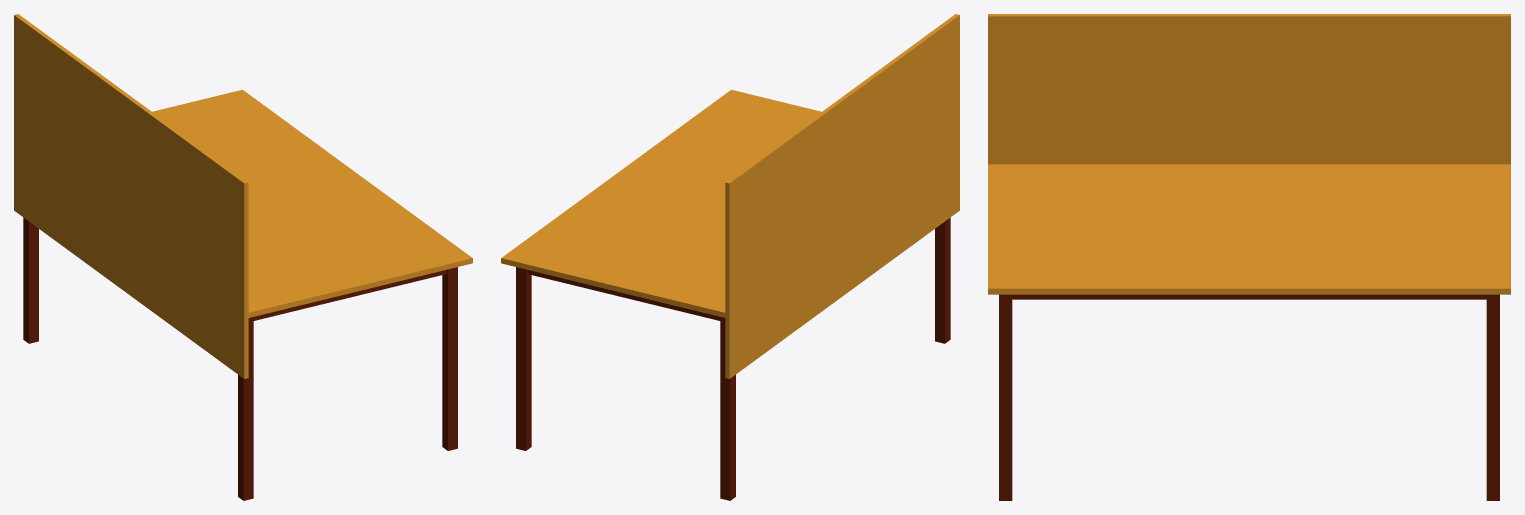
Rendered from table_2.dae.
3 views of the same model, side by side, from view 1: azimuth 30°, elevation 25°; view 2: azimuth 150°, elevation 25°; view 3: azimuth 270°, elevation 25° (orthographic). The views are drawn at different scales.
Visible parts, largest first — view 1: Cube; view 2: Cube; view 3: Cube.
Part boxes in pixels (left/top/right/bottom): Cube: left=14, top=14, right=472, bottom=500; Cube: left=501, top=14, right=959, bottom=500; Cube: left=988, top=14, right=1510, bottom=500.
Size of the model in its own units: 0.917 by 1.6 by 1.24.
